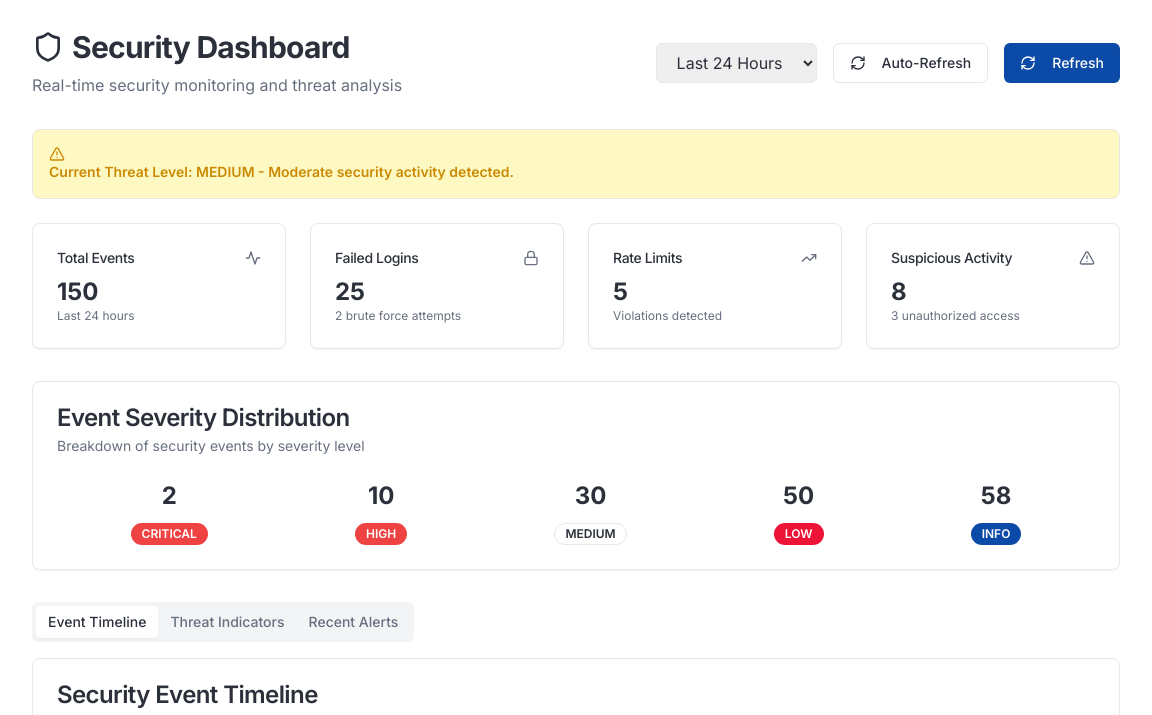
Test: AdminSecurityDashboard › should show recent alerts in alerts tab
Step 1. Click the tab "Recent Alerts" → (353, 622), box x1=296 y1=606 x2=410 y2=638
(page scrolled)
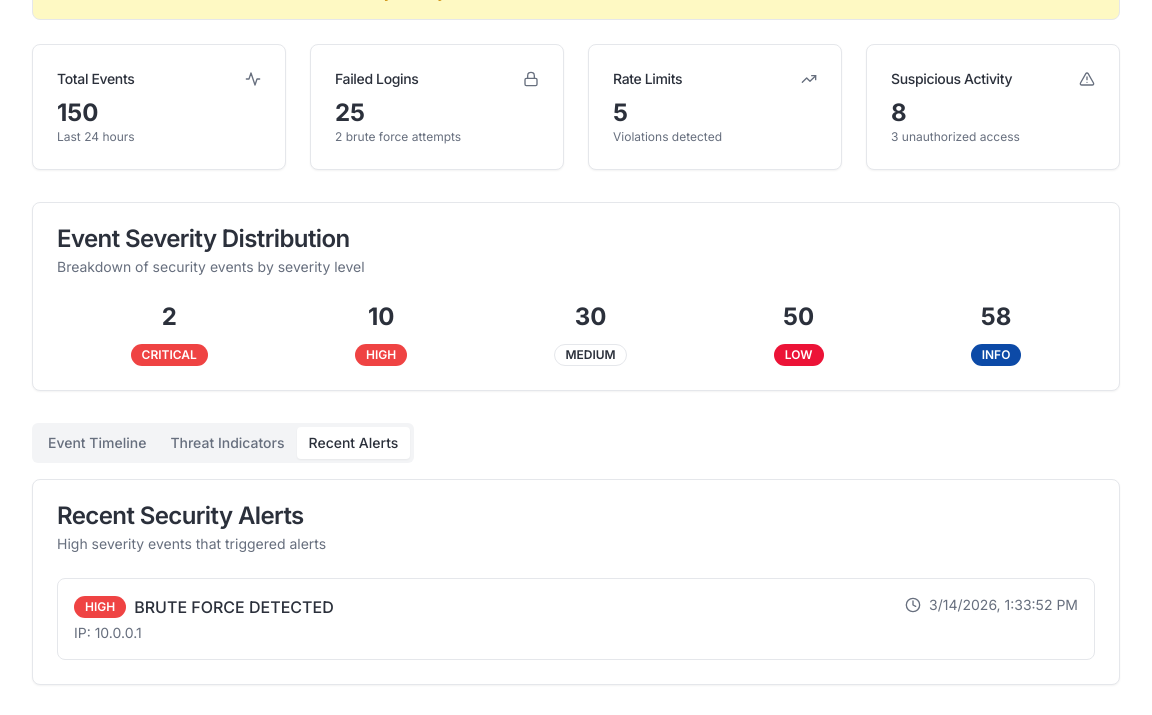
Expected: the text "BRUTE FORCE DETECTED" is shown, x1=134 y1=595 x2=334 y2=619
Result: the heading "Recent Security Alerts" is shown at x1=57 y1=501 x2=304 y2=530
